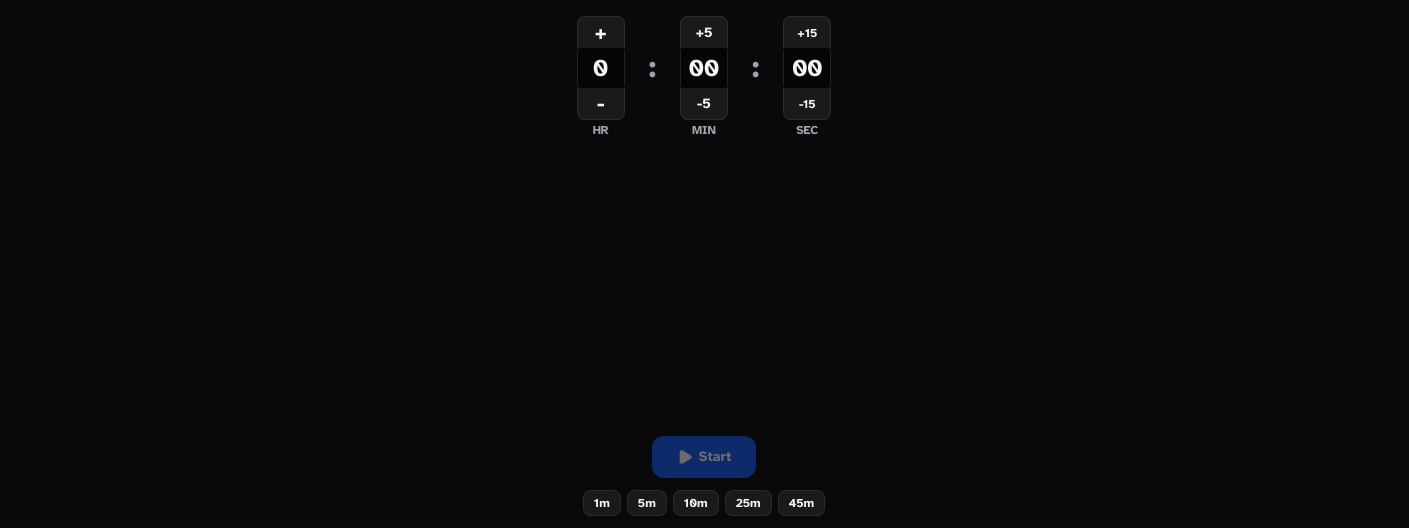
TimerWidget › starts running immediately when preset button is clicked
What coordinates should you click on to do the following:
click the button named "Set timer to 5 minutes"
I would click on:
 (647, 503)
Its box is x1=627 y1=490 x2=667 y2=516.
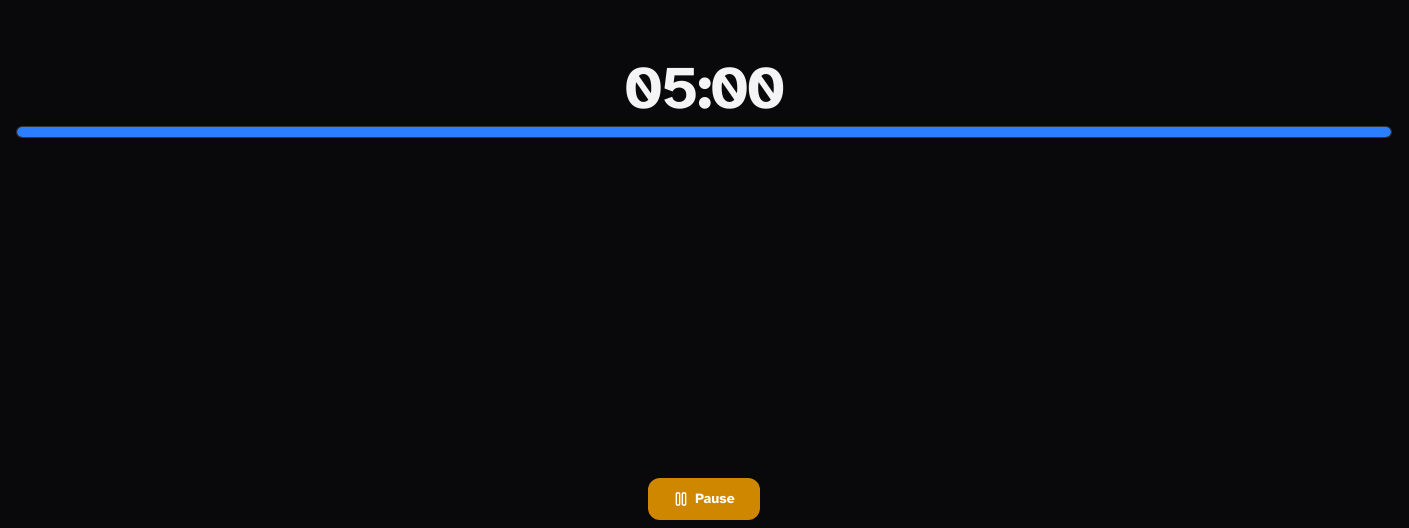
Result: the text "05:00" is shown at x1=625 y1=58 x2=783 y2=118
Result: the button with aria-label "Pause Timer" is shown at x1=648 y1=478 x2=760 y2=520
